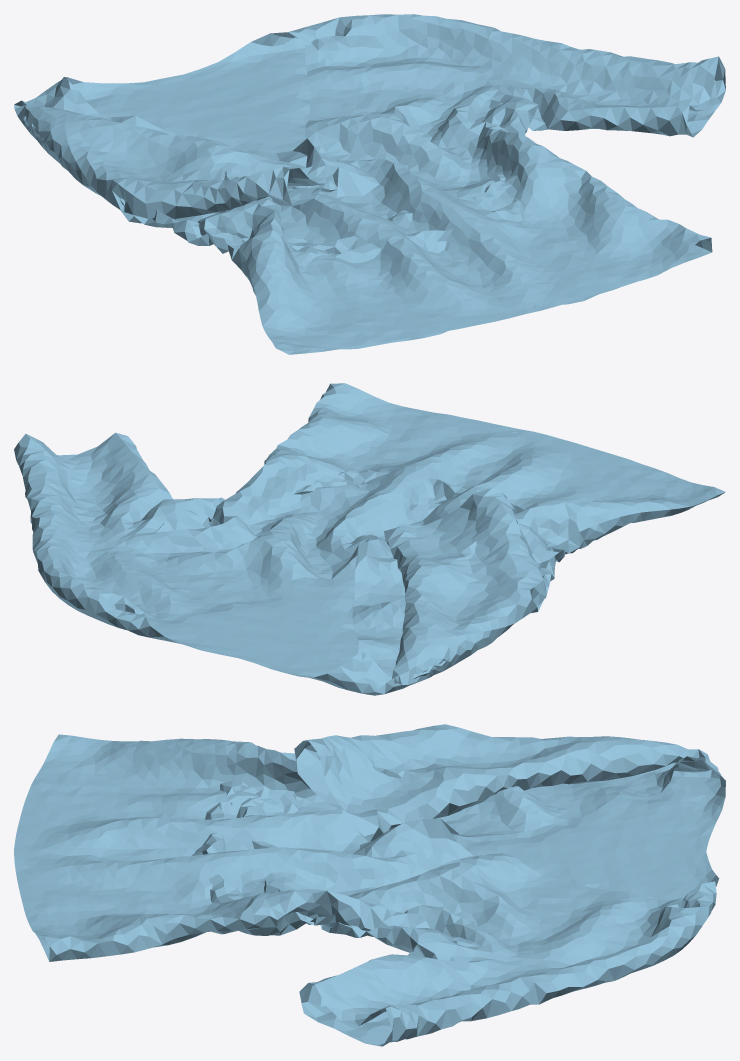
File: frame_01.glb
3 renders of one model, top to bottom at view 1: azimuth 30°, elevation 25°; view 2: azimuth 150°, elevation 25°; view 3: azimuth 270°, elevation 25°, orthographic. The views are drawn at different scales.
Parts seen in each view (by area): view 1: frame_01.obj; view 2: frame_01.obj; view 3: frame_01.obj.
Boxes of the visible parts, <box> form: frame_01.obj: <box>14,14,725,354</box>; frame_01.obj: <box>14,383,725,695</box>; frame_01.obj: <box>14,724,725,1046</box>.
Size of the model in its own units: 1.63 by 0.1864 by 1.58.
